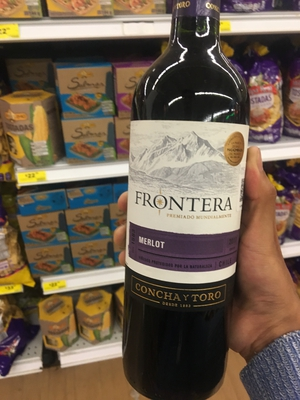frontera merlot: (118, 20, 268, 399)
